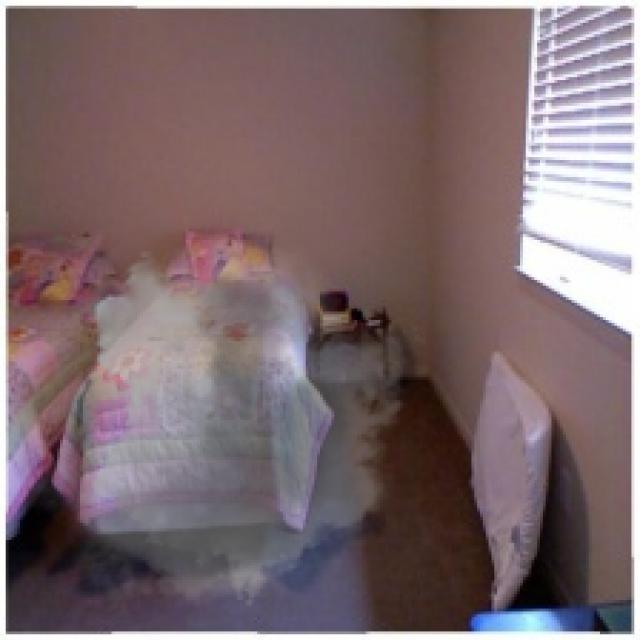Smoke: (8, 237, 426, 620)
